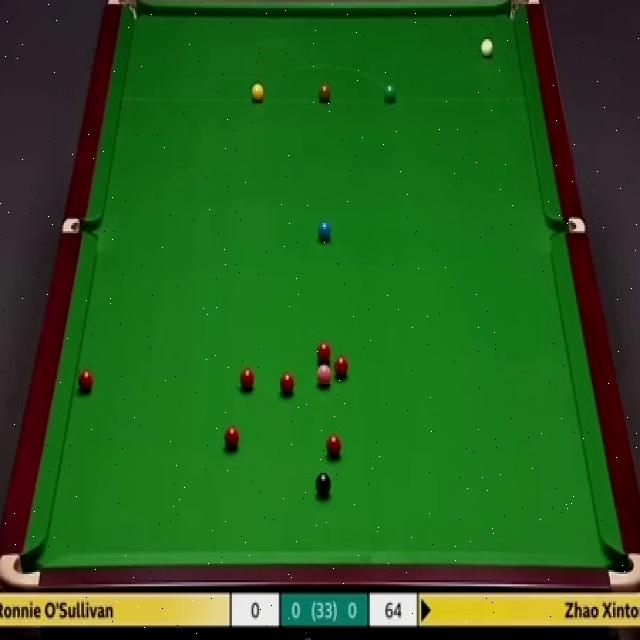black-ball: (316, 473, 331, 499)
blue-ball: (318, 220, 330, 243)
brown-ball: (319, 85, 331, 104)
green-ball: (384, 83, 396, 103)
pink-ball: (318, 365, 332, 389)
red-ball: (222, 427, 240, 452), (77, 370, 93, 396), (240, 368, 256, 394), (279, 371, 295, 397), (335, 354, 350, 380), (316, 339, 331, 364)
white-ball: (480, 37, 494, 58)
yellow-ball: (250, 82, 266, 104)
